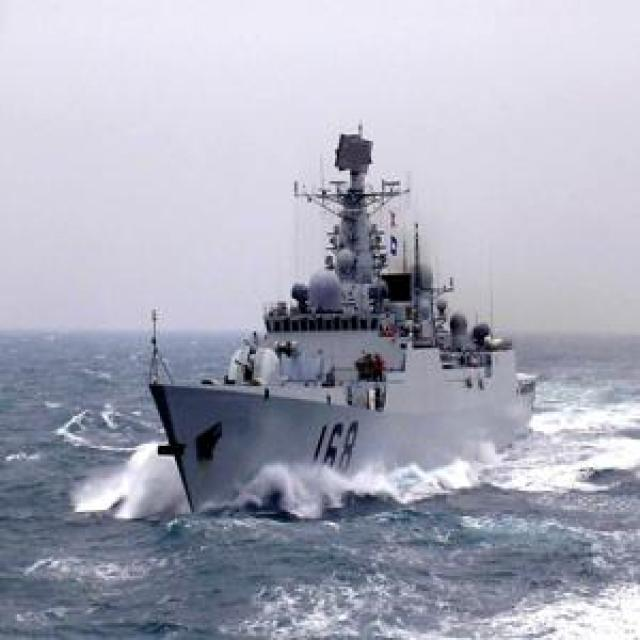navalvessels: (148, 122, 541, 510)
